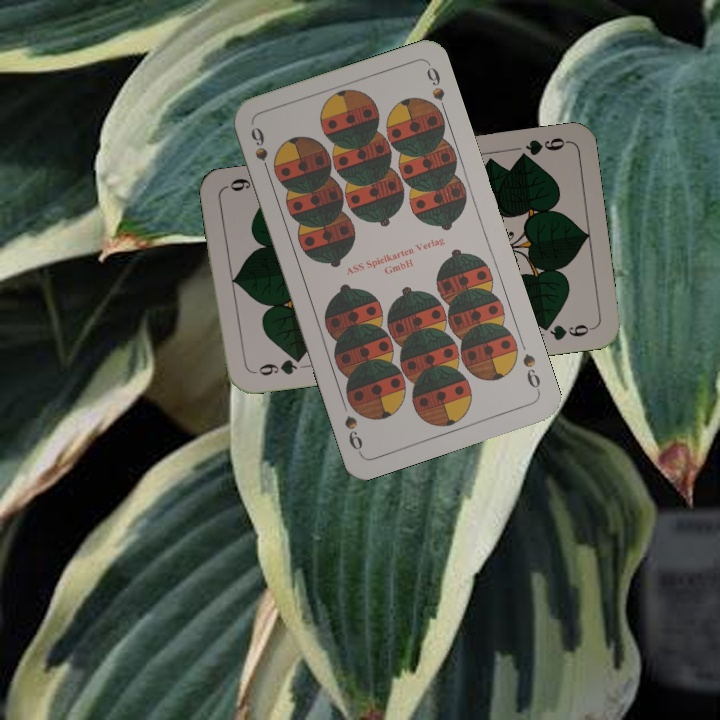G9: (512, 133, 570, 164), (248, 352, 305, 378)
S9: (246, 122, 280, 180), (519, 349, 543, 396)
